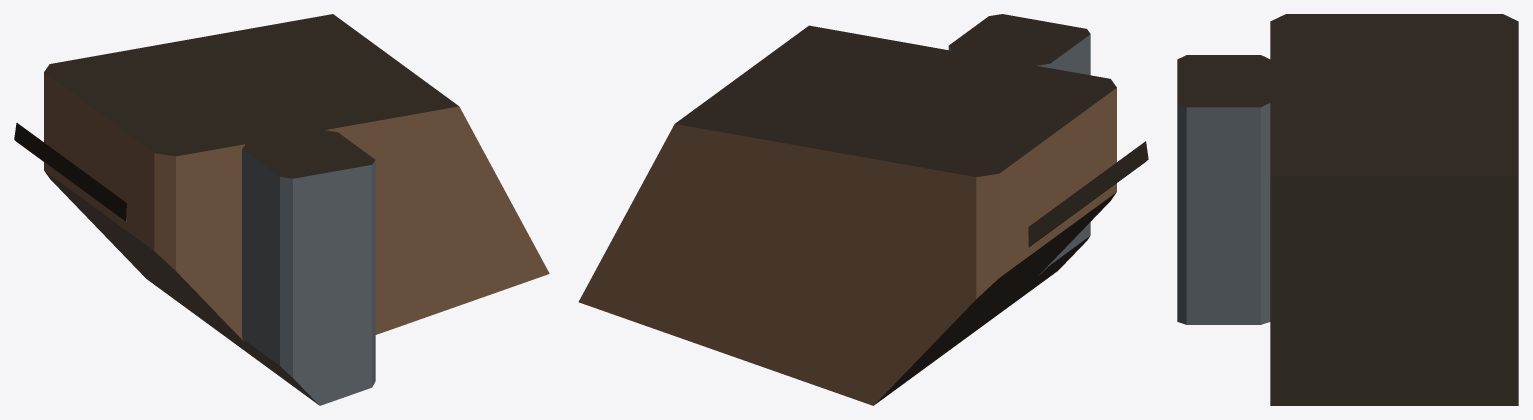
File: SM_DoorShard_02_15.fbx
The picture shows the model from 3 angles, left to right: view 1: azimuth 30°, elevation 25°; view 2: azimuth 150°, elevation 25°; view 3: azimuth 270°, elevation 25°; orthographic projection. The views are drawn at different scales.
Visible parts, largest first — view 1: SM_DoorShard_02_15; view 2: SM_DoorShard_02_15; view 3: SM_DoorShard_02_15.
Boxes of the visible parts, left/top/right/bottom form: SM_DoorShard_02_15: left=14, top=14, right=549, bottom=405; SM_DoorShard_02_15: left=578, top=14, right=1148, bottom=405; SM_DoorShard_02_15: left=1177, top=14, right=1518, bottom=405.
Size of the model in its own units: 30.48 by 22 by 16.74.
